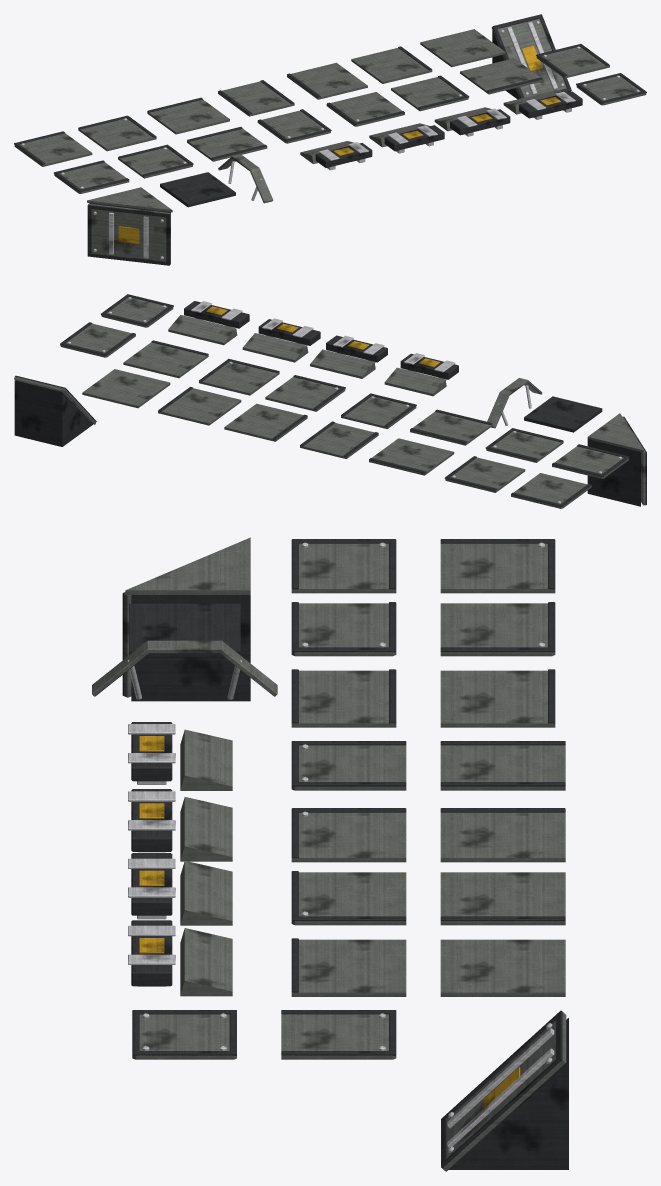
File: R4H_HullKit.glb
3 views of the same model, one above another, from view 1: azimuth 30°, elevation 25°; view 2: azimuth 150°, elevation 25°; view 3: azimuth 270°, elevation 25° (orthographic). The views are drawn at different scales.
Parts seen in each view (by area): view 1: cheek, ramp, plate_15, plate_11, plate_14, plate_07, plate_13, plate_10, plate_09, plate_03, plate_06, plate_12 (+12 smaller); view 2: ramp, cheek, nose_3, nose_2, nose_1, nose_0, plate_15, plate_07, plate_14, plate_11, plate_13, plate_06 (+12 smaller); view 3: ramp, cheek, plate_15, plate_13, plate_14, plate_07, plate_11, plate_05, plate_09, nose_3, plate_12, plate_06 (+12 smaller).
Boxes of the visible parts, x1,y1,x2,y2 form: cheek: (87,187,172,265); ramp: (491,14,571,99); plate_15: (420,29,505,67); plate_11: (147,97,229,134); plate_14: (351,46,432,83); plate_07: (460,58,542,94); plate_13: (287,62,367,99); plate_10: (78,115,156,151); plate_09: (14,131,92,166); plate_03: (187,127,267,161); plate_06: (391,75,469,111); plate_12: (218,80,294,116); ramp: (14,375,96,446); cheek: (587,413,646,506); nose_3: (168,301,249,345); nose_2: (242,318,320,362); nose_1: (310,335,387,378); nose_0: (384,353,458,396); plate_15: (82,369,170,408); plate_07: (123,340,208,378); plate_14: (158,387,241,425); plate_11: (369,438,454,475); plate_13: (224,403,307,441); plate_06: (199,358,279,395); ramp: (441,1010,568,1171); cheek: (122,537,250,701); plate_15: (440,939,565,996); plate_13: (440,808,565,862); plate_14: (440,872,565,925); plate_07: (291,938,406,996); plate_11: (440,669,555,727); plate_05: (291,808,406,862); plate_09: (440,539,555,593); nose_3: (128,920,232,996); plate_12: (440,741,565,790); plate_06: (291,871,406,925).
Bounding box in the file's own units: 5.42 × 0.7099 × 2.1.
4 materials, 4 textured.
